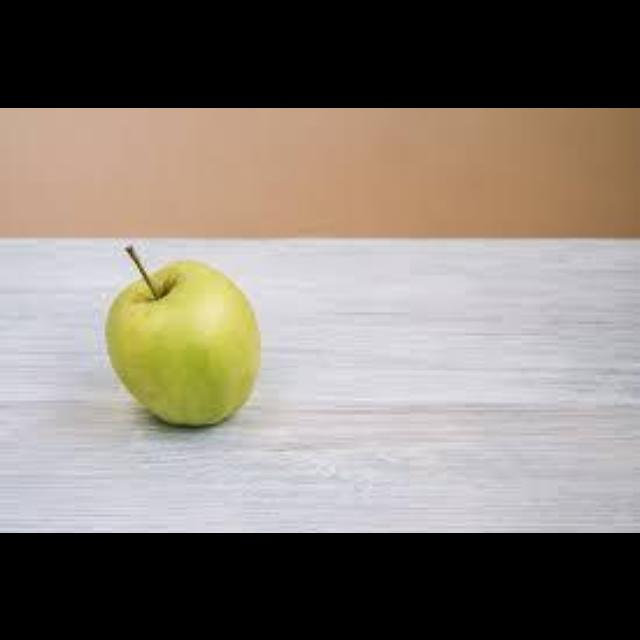apple: (105, 244, 258, 424)
